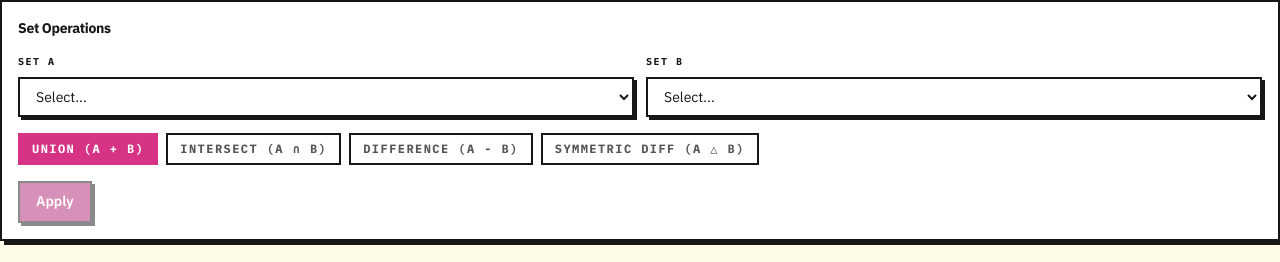
Test: SetOperationsPanel › computes union and saves result
Expected: the heading "Set Operations" is shown, [18, 19, 111, 37]
Note: Select sets
Select "Source A (3)" in the dropdown labelled "Set A". click: [326, 97]
box: [18, 77, 634, 117]
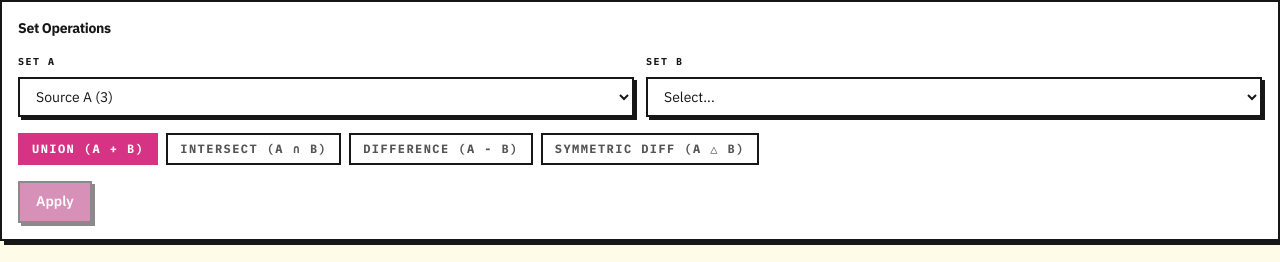
Select "Source B (2)" in the dropdown labelled "Set B". click: [954, 97]
box: [646, 77, 1262, 117]
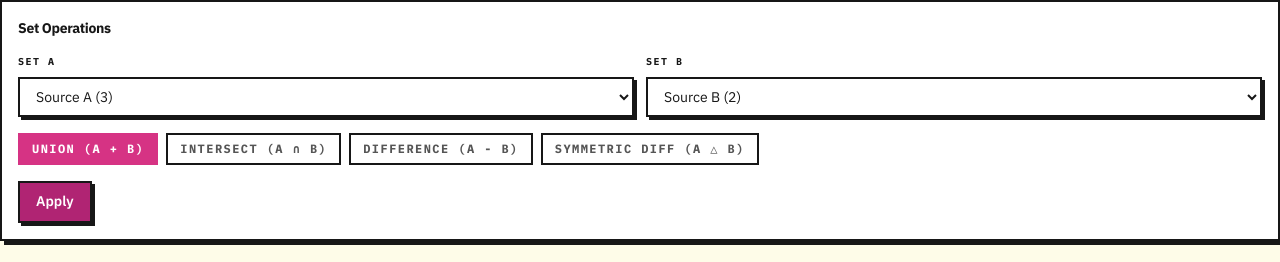
Note: Click apply (union is default)
Click the button "Apply". click: [55, 202]
box: [18, 181, 92, 222]
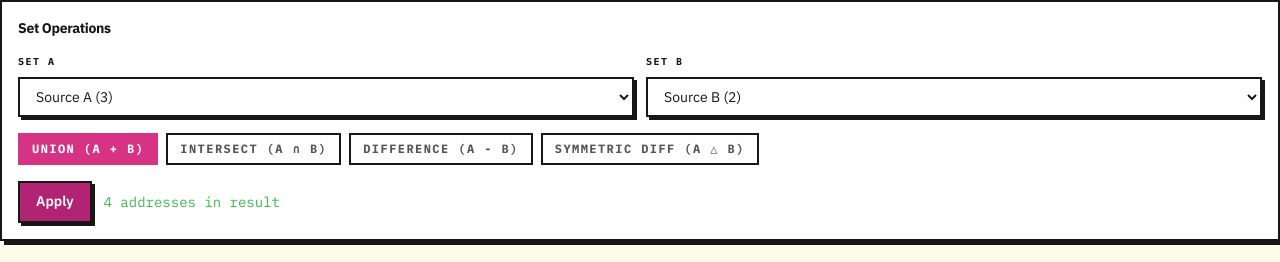
Expected: the text "4 addresses in result" is shown, [104, 192, 280, 212]
